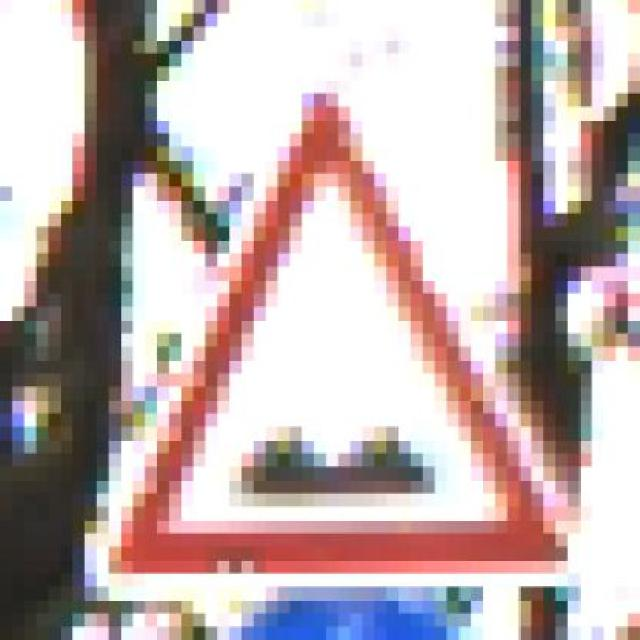Uneven Road: (97, 66, 580, 600)
